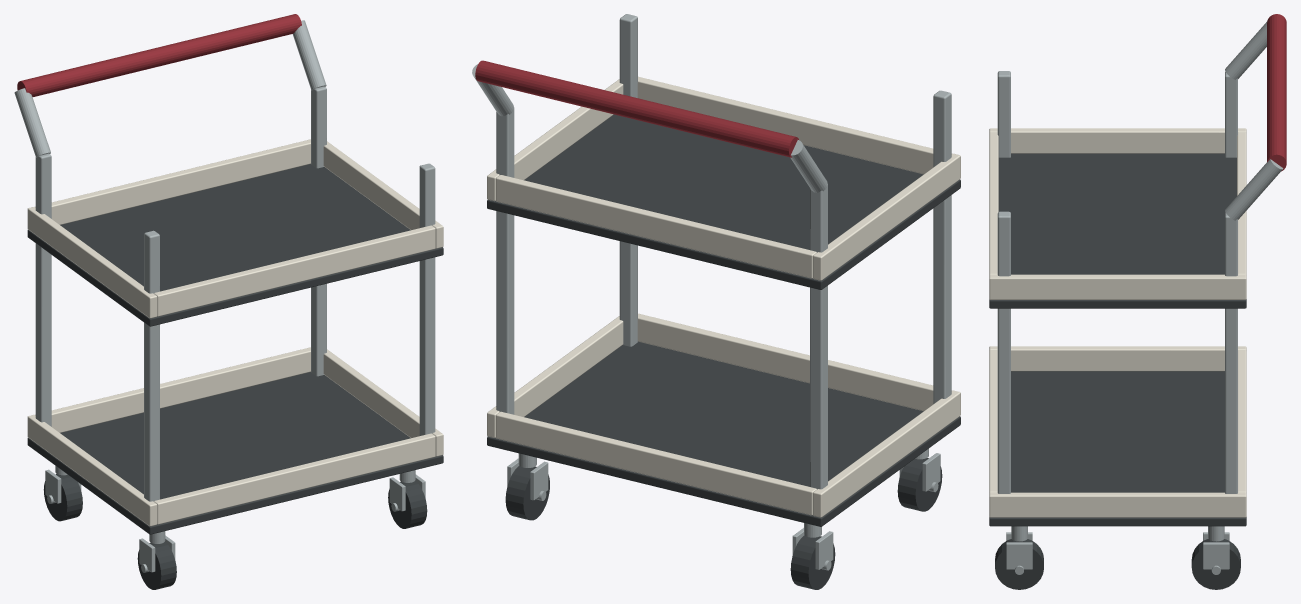
File: pneumatic-tube-mail-exchange-pneumatic-tube-mail-excha-cf6a7574__32320.glb
The picture shows the model from 3 angles, left to right: view 1: azimuth 30°, elevation 25°; view 2: azimuth 150°, elevation 25°; view 3: azimuth 270°, elevation 25°; orthographic projection. The views are drawn at different scales.
Visible parts, largest first — view 1: pneumatic-tube-mail-exchange-carrier-transfer-trolley; view 2: pneumatic-tube-mail-exchange-carrier-transfer-trolley; view 3: pneumatic-tube-mail-exchange-carrier-transfer-trolley.
Boxes of the visible parts, x1=… form: pneumatic-tube-mail-exchange-carrier-transfer-trolley: x1=14, y1=14, x2=443, y2=589; pneumatic-tube-mail-exchange-carrier-transfer-trolley: x1=472, y1=14, x2=960, y2=589; pneumatic-tube-mail-exchange-carrier-transfer-trolley: x1=989, y1=14, x2=1286, y2=589.
Bounding box in the file's own units: 0.94 × 1.28 × 0.786.
